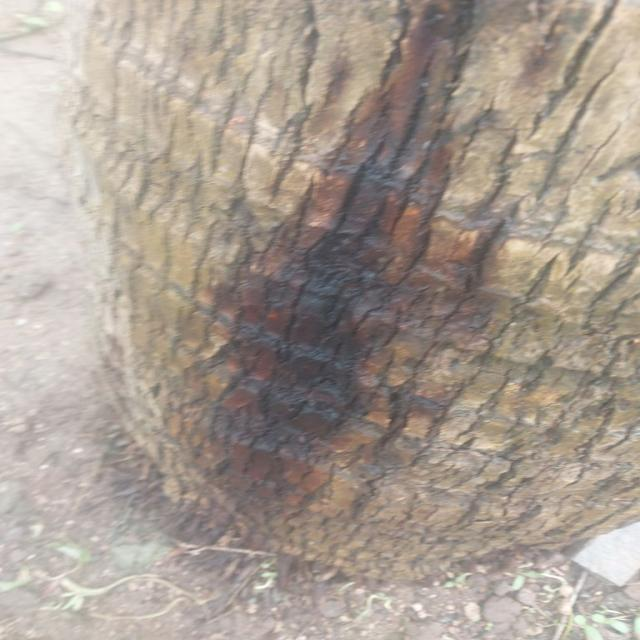stembleeding: (164, 7, 534, 549)
